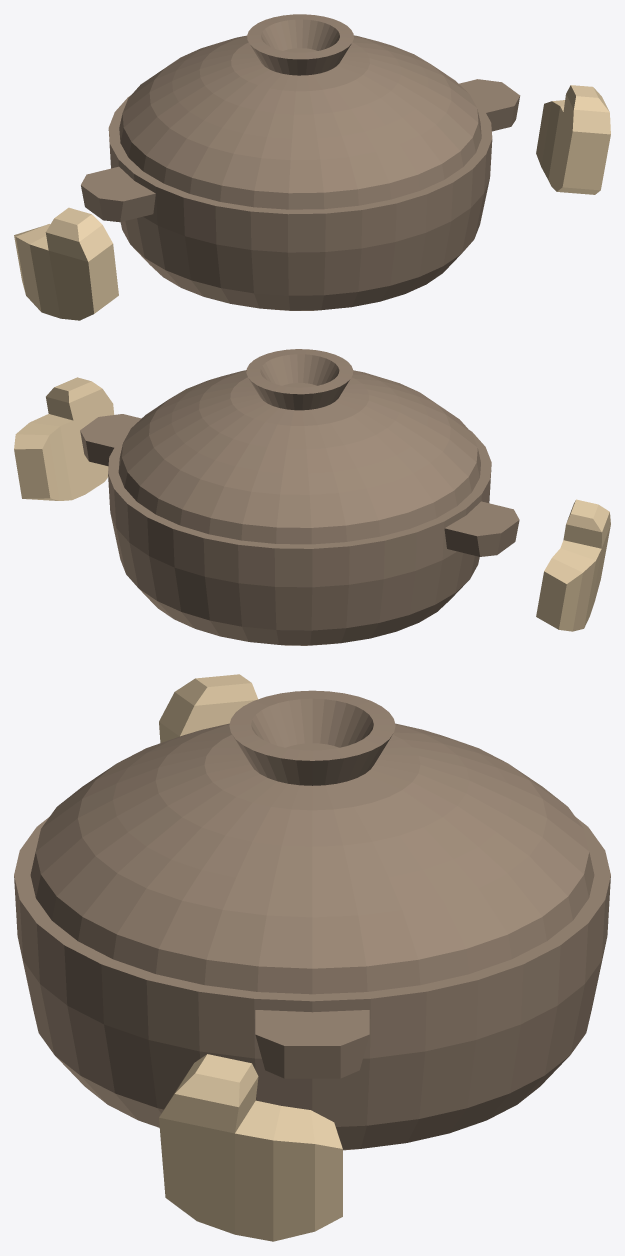
The model's file is Takeda_nabe.fbx.
The picture shows the model from 3 angles, top to bottom: view 1: azimuth 30°, elevation 25°; view 2: azimuth 150°, elevation 25°; view 3: azimuth 270°, elevation 25°; orthographic projection. The views are drawn at different scales.
Visible parts, largest first — view 1: huta, nabe, left, right, totte; view 2: huta, nabe, right, left, totte; view 3: huta, nabe, right, totte, left.
Part boxes in pixels (x1,y1,x2,y2): huta: (119, 14, 481, 209); nabe: (108, 95, 492, 310); left: (14, 207, 118, 320); right: (536, 85, 610, 194); totte: (81, 79, 520, 222); huta: (118, 349, 480, 544); nabe: (108, 430, 491, 645); right: (14, 377, 114, 500); left: (536, 499, 610, 631); totte: (80, 414, 519, 556); huta: (30, 690, 594, 994); nabe: (14, 816, 610, 1150); right: (159, 1054, 342, 1241); totte: (255, 1010, 369, 1078); left: (159, 674, 257, 742).
Bounding box in the file's own units: 345 × 134 × 202.
